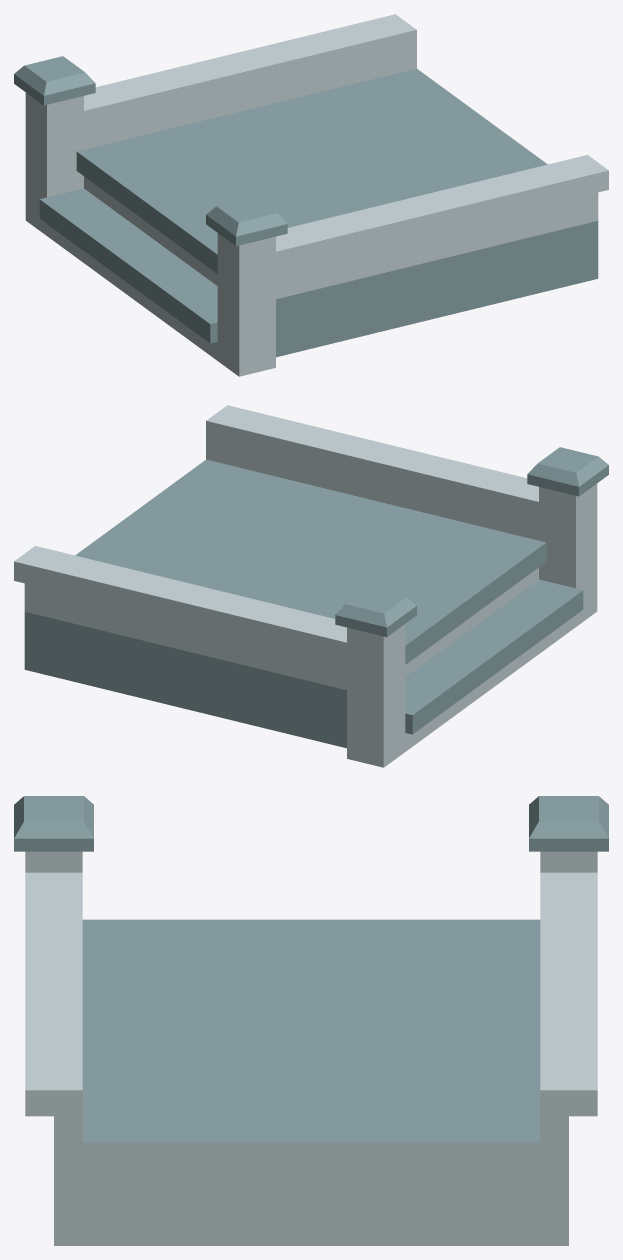
File: bridge_side_stone.glb
3 renders of one model, top to bottom at view 1: azimuth 30°, elevation 25°; view 2: azimuth 150°, elevation 25°; view 3: azimuth 270°, elevation 25°, orthographic. The views are drawn at different scales.
Visible parts, largest first — view 1: bridge_side_stone; view 2: bridge_side_stone; view 3: bridge_side_stone.
Boxes of the visible parts, x1,y1,x2,y2 form: bridge_side_stone: (14, 14, 608, 376); bridge_side_stone: (14, 405, 608, 767); bridge_side_stone: (14, 796, 608, 1245).
Bounding box in the file's own units: 1.02 × 0.4 × 1.04.
